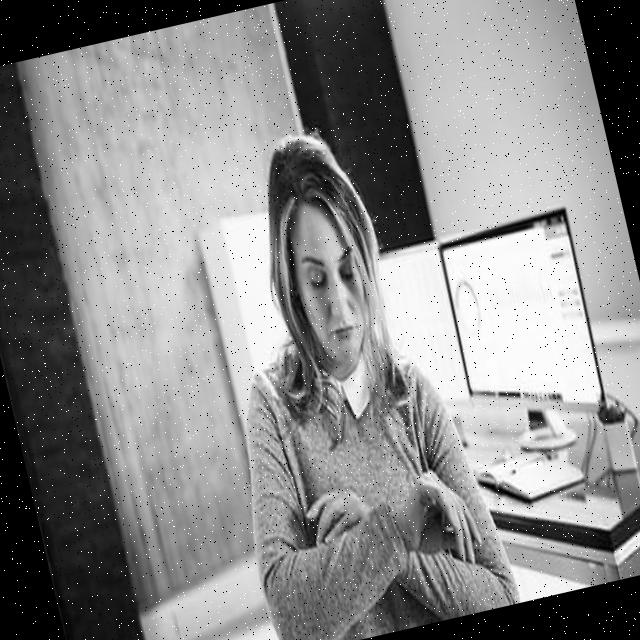Sadness: (282, 195, 378, 367)
